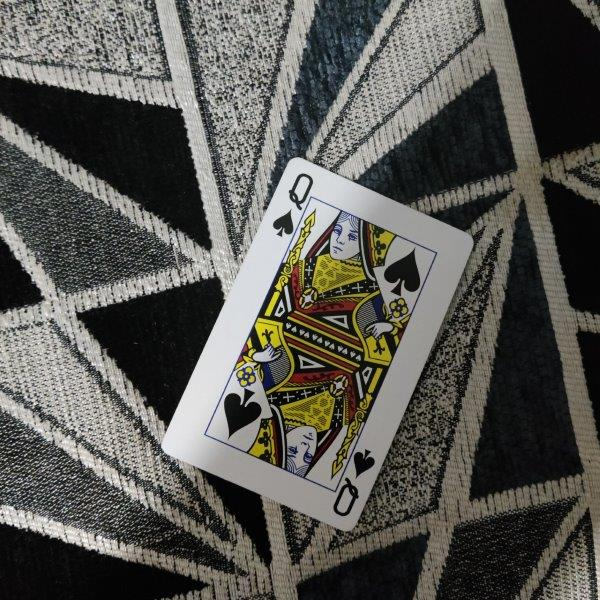Queen of Spades: (161, 156, 475, 532)
